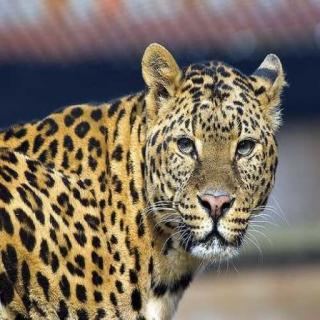-: (0, 30, 296, 320)
